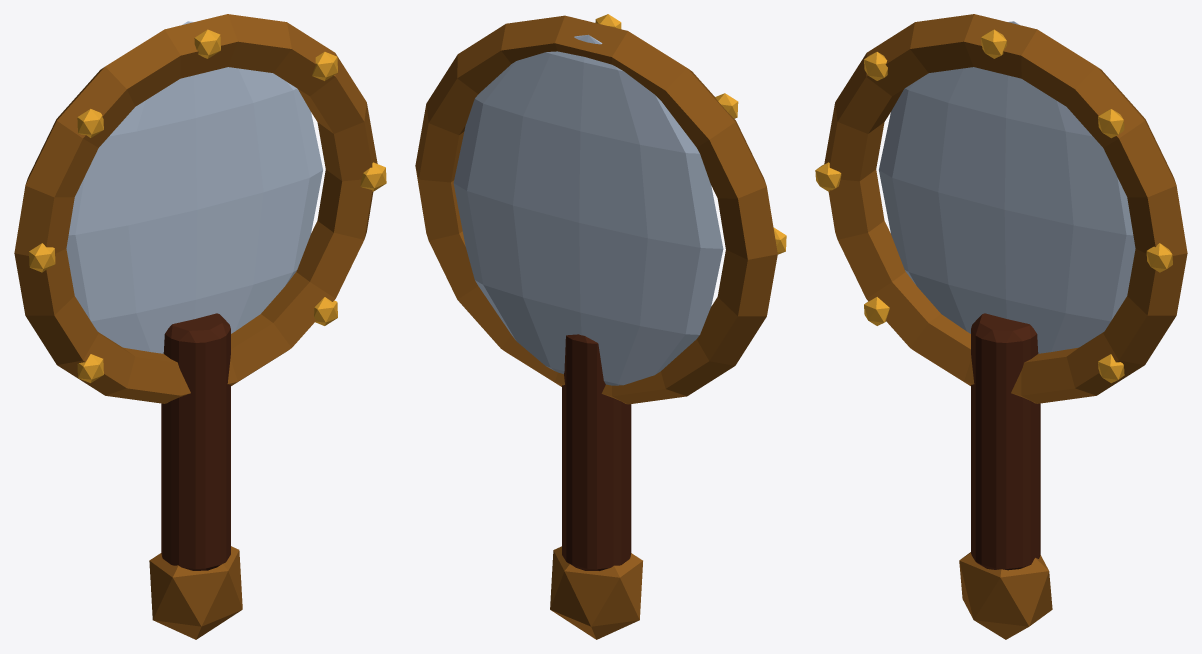
Rendered from rear_mirror.obj.
3 renders of one model, left to right at view 1: azimuth 30°, elevation 25°; view 2: azimuth 150°, elevation 25°; view 3: azimuth 330°, elevation 25°, orthographic.
Parts seen in each view (by area): view 1: RearMirror_Glass.001_MAT_Pearl, RearMirror_Frame.001_MAT_OldGold, RearMirror_Handle.001_MAT_Wood, RearMirror_Pommel.001_MAT_OldGold, RearMirror_Rivet3.001_MAT_BrightGold, RearMirror_Rivet4.001_MAT_BrightGold, RearMirror_Rivet2.001_MAT_BrightGold, RearMirror_Rivet5.001_MAT_BrightGold, RearMirror_Rivet1.001_MAT_BrightGold, RearMirror_Rivet0.001_MAT_BrightGold, RearMirror_Rivet7.001_MAT_BrightGold; view 2: RearMirror_Glass.001_MAT_Pearl, RearMirror_Frame.001_MAT_OldGold, RearMirror_Handle.001_MAT_Wood, RearMirror_Pommel.001_MAT_OldGold; view 3: RearMirror_Glass.001_MAT_Pearl, RearMirror_Frame.001_MAT_OldGold, RearMirror_Handle.001_MAT_Wood, RearMirror_Pommel.001_MAT_OldGold, RearMirror_Rivet1.001_MAT_BrightGold, RearMirror_Rivet0.001_MAT_BrightGold, RearMirror_Rivet2.001_MAT_BrightGold, RearMirror_Rivet7.001_MAT_BrightGold, RearMirror_Rivet5.001_MAT_BrightGold, RearMirror_Rivet3.001_MAT_BrightGold, RearMirror_Rivet4.001_MAT_BrightGold.
Boxes of the visible parts, box(x1,y1,x2,y2) form: RearMirror_Glass.001_MAT_Pearl: box(66, 21, 322, 353); RearMirror_Frame.001_MAT_OldGold: box(14, 14, 377, 403); RearMirror_Handle.001_MAT_Wood: box(161, 313, 230, 570); RearMirror_Pommel.001_MAT_OldGold: box(149, 546, 242, 639); RearMirror_Rivet3.001_MAT_BrightGold: box(77, 109, 103, 137); RearMirror_Rivet4.001_MAT_BrightGold: box(29, 243, 55, 272); RearMirror_Rivet2.001_MAT_BrightGold: box(194, 29, 220, 58); RearMirror_Rivet5.001_MAT_BrightGold: box(77, 354, 103, 383); RearMirror_Rivet1.001_MAT_BrightGold: box(312, 52, 337, 80); RearMirror_Rivet0.001_MAT_BrightGold: box(360, 162, 386, 191); RearMirror_Rivet7.001_MAT_BrightGold: box(314, 297, 337, 325); RearMirror_Glass.001_MAT_Pearl: box(453, 34, 723, 385); RearMirror_Frame.001_MAT_OldGold: box(415, 15, 777, 404); RearMirror_Handle.001_MAT_Wood: box(562, 334, 631, 570); RearMirror_Pommel.001_MAT_OldGold: box(550, 546, 642, 639); RearMirror_Glass.001_MAT_Pearl: box(879, 21, 1135, 353); RearMirror_Frame.001_MAT_OldGold: box(824, 14, 1187, 403); RearMirror_Handle.001_MAT_Wood: box(971, 313, 1040, 570); RearMirror_Pommel.001_MAT_OldGold: box(959, 552, 1052, 639); RearMirror_Rivet1.001_MAT_BrightGold: box(1098, 109, 1124, 138); RearMirror_Rivet0.001_MAT_BrightGold: box(1146, 243, 1172, 272); RearMirror_Rivet2.001_MAT_BrightGold: box(981, 29, 1006, 58); RearMirror_Rivet7.001_MAT_BrightGold: box(1098, 354, 1124, 383); RearMirror_Rivet5.001_MAT_BrightGold: box(864, 297, 889, 325); RearMirror_Rivet3.001_MAT_BrightGold: box(864, 52, 887, 80); RearMirror_Rivet4.001_MAT_BrightGold: box(815, 162, 841, 191).
Size of the model in its own units: 1.8 by 2.93 by 0.3232.
